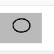no answer: (10, 17, 32, 36)
